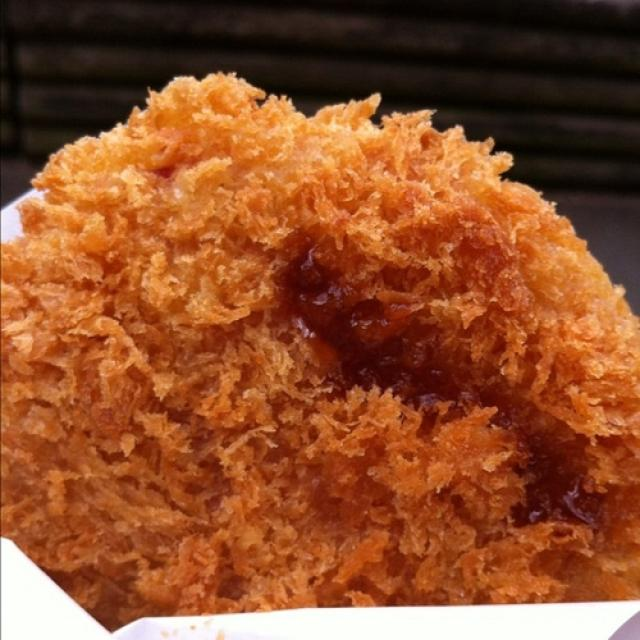炸货点心: (12, 39, 631, 620)
